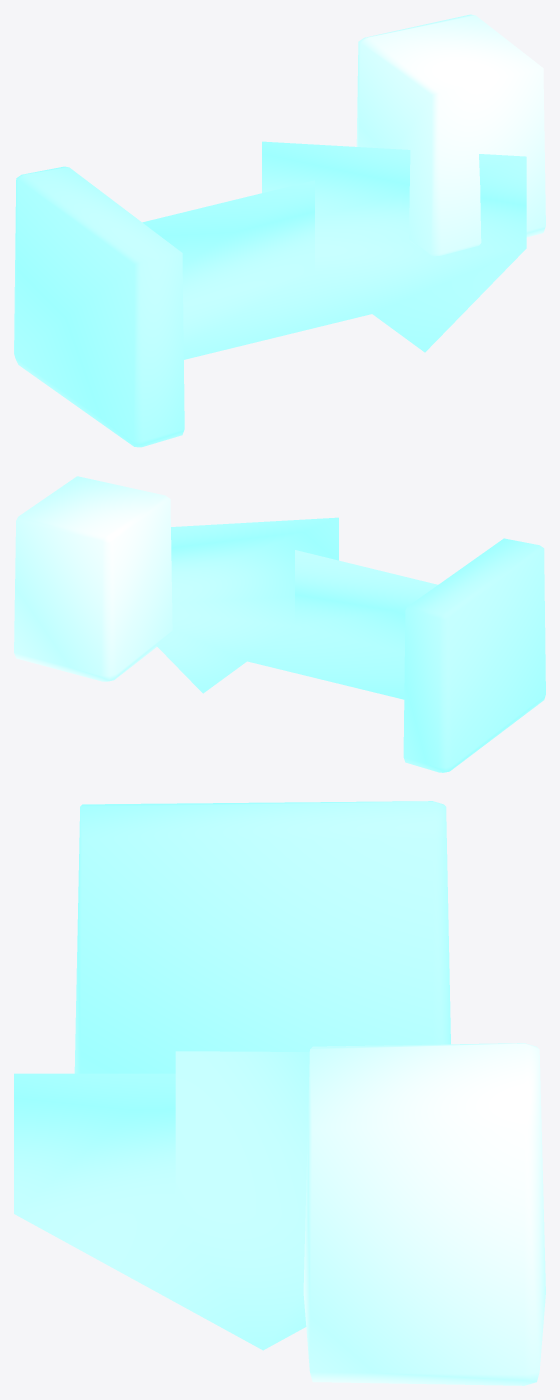
The model's file is 41_list_link_20_30.glb.
3 views of the same model, one above another, from view 1: azimuth 30°, elevation 25°; view 2: azimuth 150°, elevation 25°; view 3: azimuth 270°, elevation 25° (orthographic). The views are drawn at different scales.
Parts seen in each view (by area): view 1: ArrowBody, SourceFlange, TargetPortGlow; view 2: ArrowBody, TargetPortGlow, SourceFlange; view 3: SourceFlange, TargetPortGlow, ArrowBody.
Boxes of the visible parts, x1=… form: ArrowBody: x1=142, y1=141, x2=526, y2=359; SourceFlange: x1=14, y1=166, x2=184, y2=447; TargetPortGlow: x1=356, y1=14, x2=545, y2=256; ArrowBody: x1=156, y1=517, x2=437, y2=699; TargetPortGlow: x1=14, y1=476, x2=172, y2=681; SourceFlange: x1=403, y1=538, x2=545, y2=772; SourceFlange: x1=74, y1=801, x2=450, y2=1073; TargetPortGlow: x1=303, y1=1043, x2=545, y2=1385; ArrowBody: x1=14, y1=1051, x2=309, y2=1350.
Bounding box in the file's own units: 0.6475 × 0.27 × 0.395.
